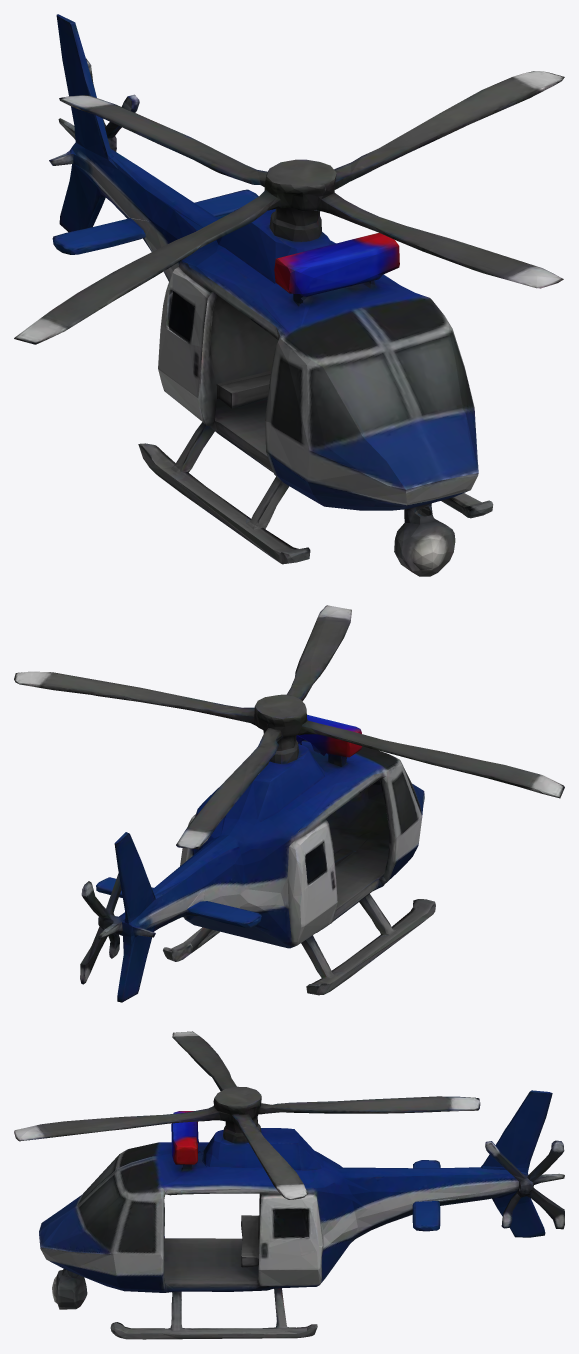
The model's file is heli.glb.
The picture shows the model from 3 angles, top to bottom: view 1: azimuth 30°, elevation 25°; view 2: azimuth 150°, elevation 25°; view 3: azimuth 270°, elevation 25°; orthographic projection. The views are drawn at different scales.
Parts seen in each view (by area): view 1: geometry_0; view 2: geometry_0; view 3: geometry_0.
Boxes of the visible parts, box(x1,y1,x2,y2) form: geometry_0: box(14, 14, 564, 576); geometry_0: box(14, 605, 564, 1002); geometry_0: box(14, 1031, 564, 1339).
Bounding box in the file's own units: 0.8949 × 0.4272 × 0.9973.
Materials: 1 (1 with a texture image).
